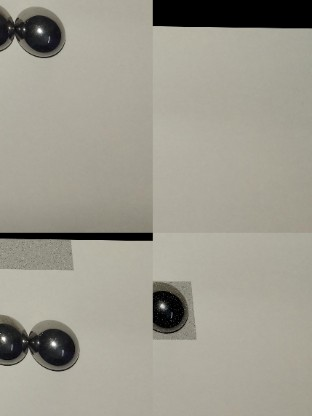ironball: (11, 0, 69, 58), (27, 317, 81, 370), (152, 280, 192, 340), (0, 304, 27, 369), (0, 0, 15, 61)
